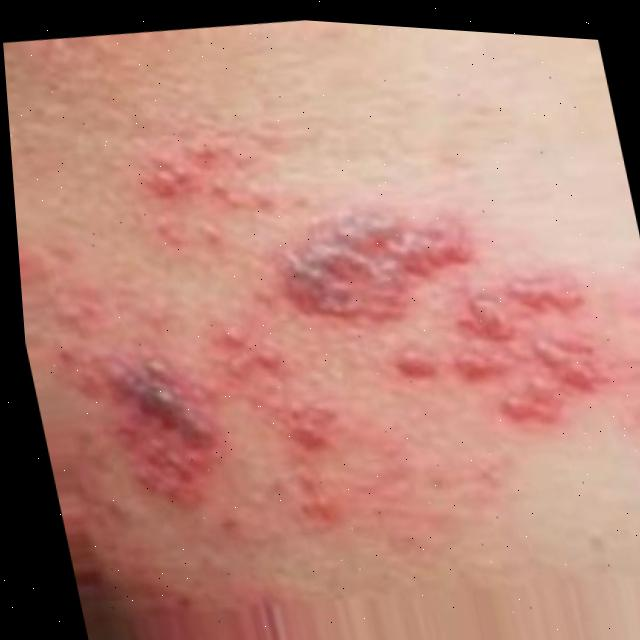Shingles: (260, 176, 617, 459), (207, 302, 342, 529), (84, 332, 234, 516), (126, 115, 290, 251)
